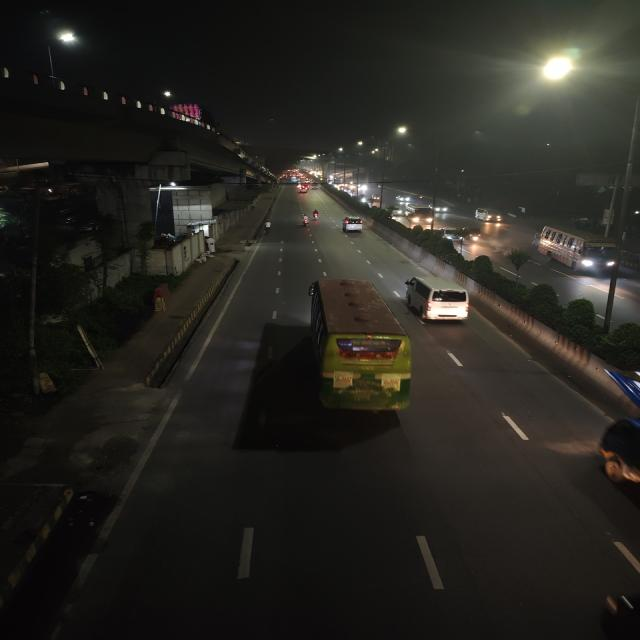bus: (302, 275, 416, 421), (534, 225, 624, 278)
car: (409, 280, 472, 333), (600, 364, 640, 424), (473, 206, 503, 226), (439, 226, 466, 246), (340, 215, 366, 235), (390, 206, 406, 218), (298, 185, 309, 194)
cng: (464, 226, 481, 243)
motorcycle: (300, 214, 310, 228), (304, 211, 314, 225), (263, 221, 272, 236), (312, 208, 321, 220)
truck: (406, 203, 434, 223)
